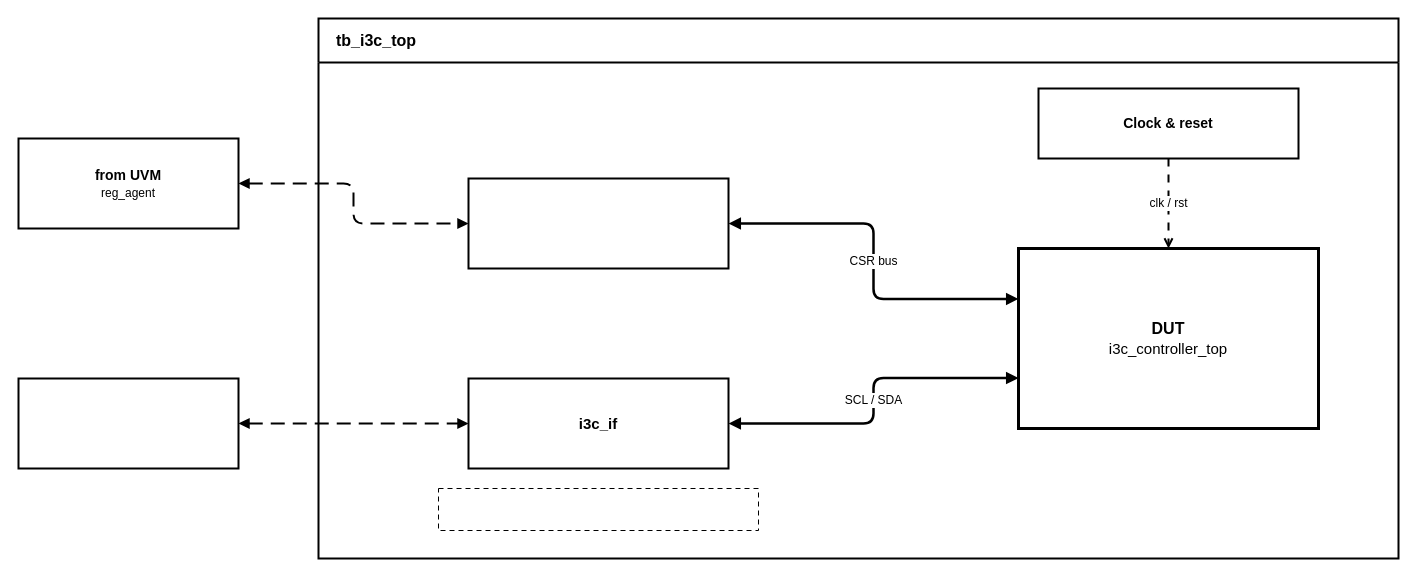
Image size: 1416x576. Some labels were removed from this diagram. The shapes that lost their labels are listed below. From the top down, each one's centre as x and y in pixels, then its label:
At [598,223]: "reg_if".
At [128,423]: "from UVM i3c_agent".
At [598,509]: "virtual interface (UVM config database)".
